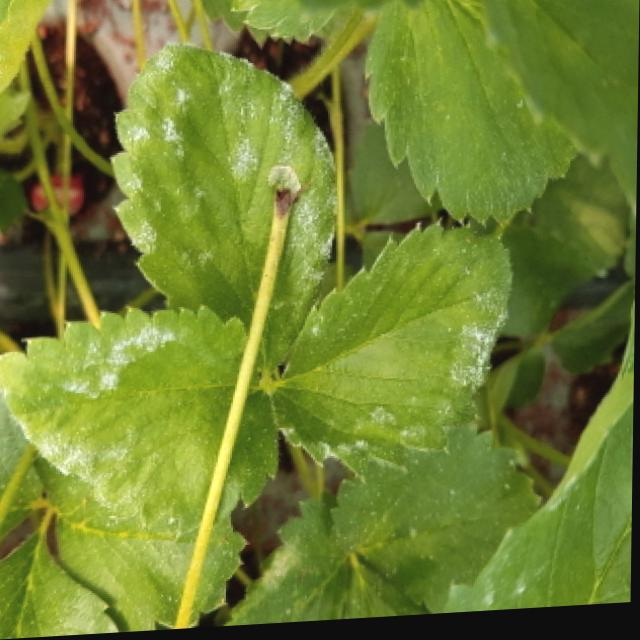Powdery Mildew Leaf: (112, 43, 341, 382), (0, 307, 283, 547), (274, 225, 513, 487), (446, 291, 636, 619)
